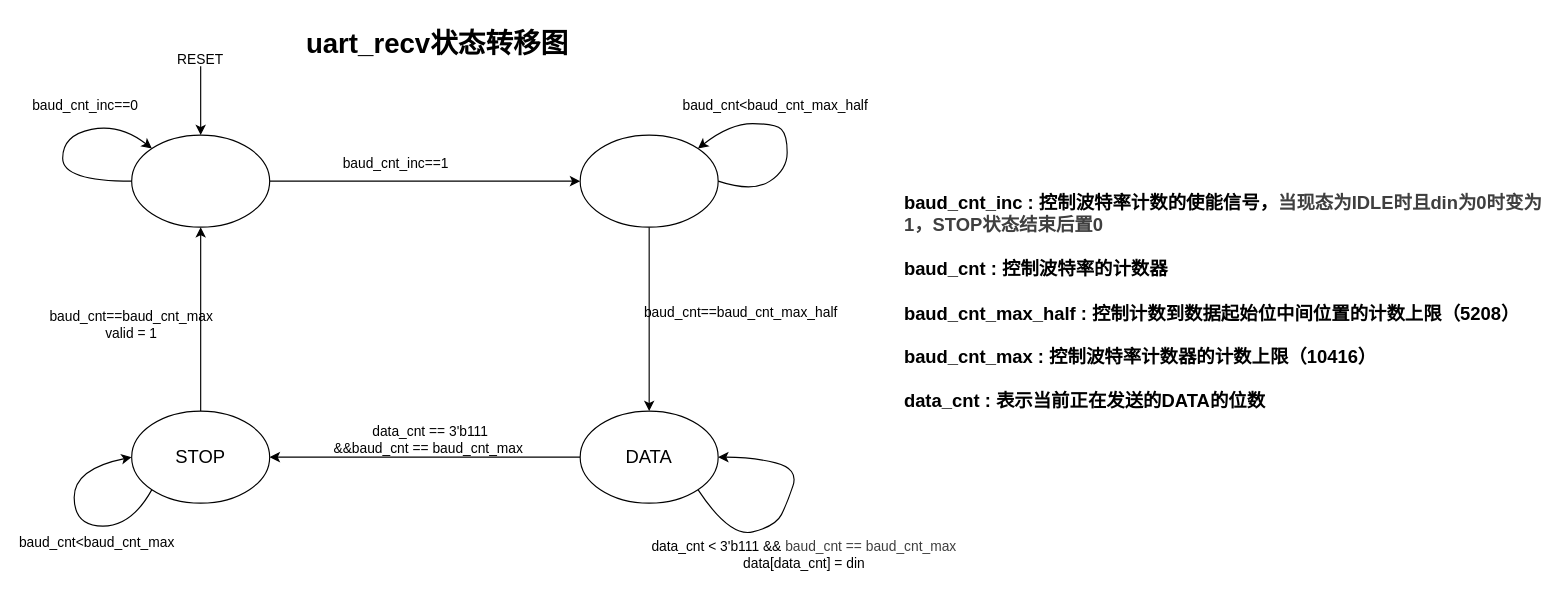
This 1566x591 diagram has some shape labels left out. Here are the shapes that lost their labels. From the top down, the box of each, then its label:
(131, 134, 270, 227): IDLE
(579, 134, 718, 227): START
